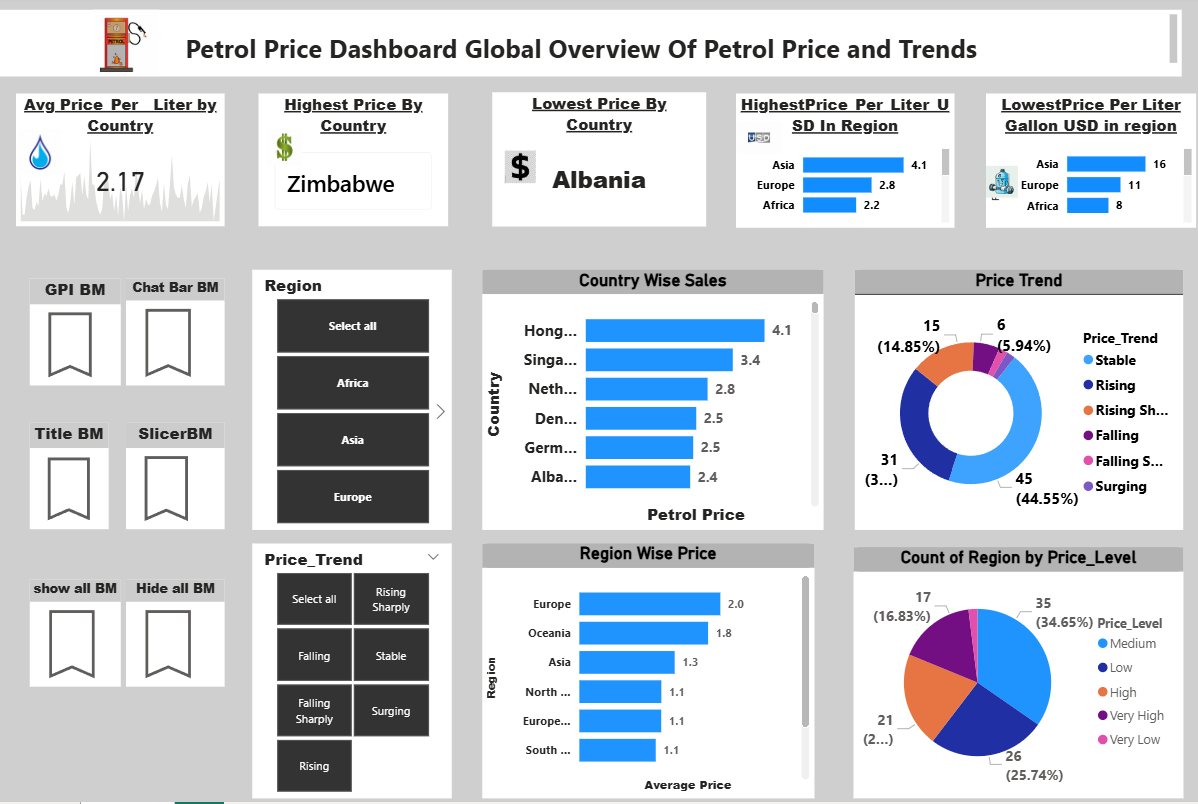

This screenshot's page, from the dashboard's own definition file:
{"tool":"powerbi","page":{"name":"Page 1","canvas":[1302,850],"ordinal":0},"visuals":[{"type":"textbox","box":[18.6,14.3,1258.6,70],"z":0},{"type":"barChart","title":"Country Wise Sales","fields":{"Category":["Sheet1.Country"],"Y":["Sum(Sheet1.Price_Per_Liter_USD)"]},"box":[538.6,288.6,360,274.3],"z":1000},{"type":"barChart","title":"Region Wise Price","fields":{"Y":["Avg(Sheet1.Price_Per_Liter_USD)"],"Category":["Sheet1.Region"]},"box":[538.6,577.1,350,268.6],"z":2000},{"type":"donutChart","title":"Price Trend","fields":{"Category":["Sheet1.Price_Trend"],"Y":["CountNonNull(Sheet1.Country)"]},"box":[931.9,289.1,346.3,274.4],"z":3000},{"type":"pieChart","fields":{"Category":["Sheet1.Price_Level"],"Y":["CountNonNull(superstore.Region)"]},"box":[930.7,581.3,348,265],"z":4000},{"type":"slicer","fields":{"Values":["Sheet1.Region"]},"box":[297.1,288.6,210,274.3],"z":5000},{"type":"slicer","fields":{"Values":["Sheet1.Price_Trend"]},"box":[297.1,577.1,210,268.6],"z":6000},{"type":"kpi","title":"Avg Price_Per__Liter by Country","fields":{"Indicator":["Avg(Sheet1.Price_Per_Liter_USD)"],"TrendLine":["Sheet1.Country"]},"box":[47.1,102.9,220,140],"z":7000},{"type":"cardVisual","title":"Highest Price By Country","fields":{"Data":["superstore.highestprice"]},"box":[302.9,102.9,200,140],"z":8000},{"type":"card","title":"Lowest Price By Country","fields":{"Values":["superstore.lowestprice"]},"box":[550,101.4,225.7,141.4],"z":9000},{"type":"clusteredBarChart","title":"HighestPrice_Per_Liter_USD In Region","fields":{"Category":["superstore.Region"],"Y":["superstore.HP_P_L_USD"]},"box":[807.1,102.9,230,141.4],"z":10000},{"type":"clusteredBarChart","title":"LowestPrice Per Liter Gallon USD in region","fields":{"Category":["superstore.Region"],"Y":["superstore.LP_P_L_G_USD"]},"box":[1070,102.9,221.4,141.4],"z":11000},{"type":"image","box":[128.6,0,68.6,97.1],"z":12000},{"type":"image","box":[50,84.3,45.7,160],"z":13000},{"type":"image","box":[312.9,135.7,37.1,47.1],"z":14000},{"type":"image","box":[562.9,158.6,32.9,44.3],"z":15000},{"type":"image","box":[1069.9,149.7,33.8,91],"z":16000},{"type":"image","box":[807.1,127.1,48.6,45.7],"z":17000},{"type":"actionButton","title":"GPI BM","box":[61.4,298.6,95.7,112.9],"z":18000},{"type":"actionButton","title":"SlicerBM","box":[162.9,450,104.3,112.9],"z":19000},{"type":"actionButton","title":"Chat Bar BM","box":[162.9,298.6,104.3,112.9],"z":20000},{"type":"actionButton","title":"Title BM","box":[61.4,450,82.9,112.9],"z":21000},{"type":"actionButton","title":"show all BM","box":[61.4,615.7,95.7,112.9],"z":22000},{"type":"actionButton","title":"Hide all BM","box":[162.9,615.7,104.3,112.9],"z":23000}]}

Visuals, with their boxes in screenshot pixels (x1, y1, x2, y2), scaled from the page's 1302x850 canvas onto the 1198x804 screenshot:
textbox: bbox(17, 14, 1175, 80)
"Country Wise Sales" barChart: bbox(496, 273, 827, 532)
"Region Wise Price" barChart: bbox(496, 546, 818, 800)
"Price Trend" donutChart: bbox(857, 273, 1176, 533)
pieChart - Sheet1.Price_Level x CountNonNull(superstore.Region): bbox(856, 550, 1177, 801)
slicer - Sheet1.Region: bbox(273, 273, 467, 532)
slicer - Sheet1.Price_Trend: bbox(273, 546, 467, 800)
"Avg Price_Per__Liter by Country" kpi: bbox(43, 97, 246, 230)
"Highest Price By Country" cardVisual: bbox(279, 97, 463, 230)
"Lowest Price By Country" card: bbox(506, 96, 714, 230)
"HighestPrice_Per_Liter_USD In Region" clusteredBarChart: bbox(743, 97, 954, 231)
"LowestPrice Per Liter Gallon USD in region" clusteredBarChart: bbox(985, 97, 1188, 231)
image: bbox(118, 0, 181, 92)
image: bbox(46, 80, 88, 231)
image: bbox(288, 128, 322, 173)
image: bbox(518, 150, 548, 192)
image: bbox(984, 142, 1016, 228)
image: bbox(743, 120, 787, 163)
"GPI BM" actionButton: bbox(56, 282, 145, 389)
"SlicerBM" actionButton: bbox(150, 426, 246, 532)
"Chat Bar BM" actionButton: bbox(150, 282, 246, 389)
"Title BM" actionButton: bbox(56, 426, 133, 532)
"show all BM" actionButton: bbox(56, 582, 145, 689)
"Hide all BM" actionButton: bbox(150, 582, 246, 689)
